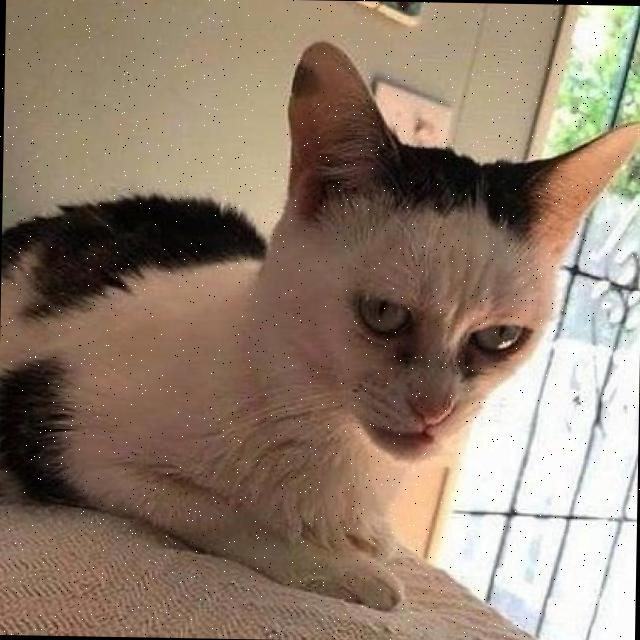cat: (0, 30, 638, 586)
